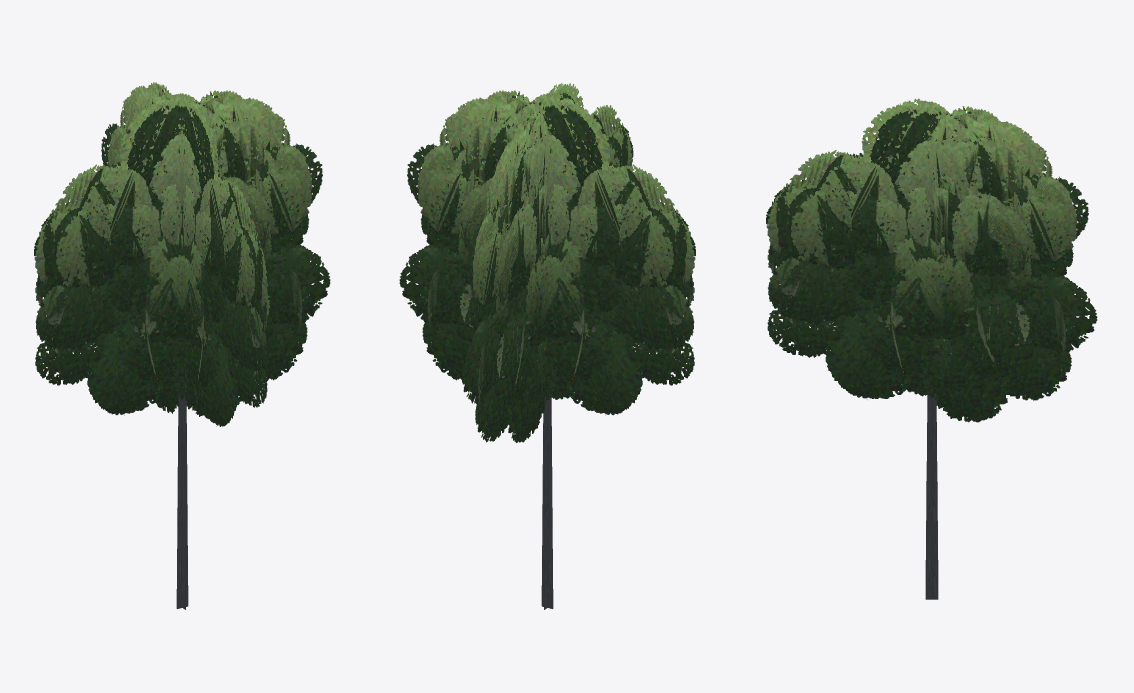
The model's file is tree_linden_lifted_impostor.glb.
The picture shows the model from 3 angles, left to right: view 1: azimuth 30°, elevation 25°; view 2: azimuth 150°, elevation 25°; view 3: azimuth 270°, elevation 25°; orthographic projection. The views are drawn at different scales.
Visible parts, largest first — view 1: tree_linden_lifted_impostor; view 2: tree_linden_lifted_impostor; view 3: tree_linden_lifted_impostor.
Part boxes in pixels (x1,y1,x2,y2): tree_linden_lifted_impostor: [34, 82, 330, 609]; tree_linden_lifted_impostor: [399, 83, 695, 609]; tree_linden_lifted_impostor: [766, 98, 1097, 599].
Size of the model in its own units: 9.51 by 14.13 by 9.51.
1 material, 1 textured.
